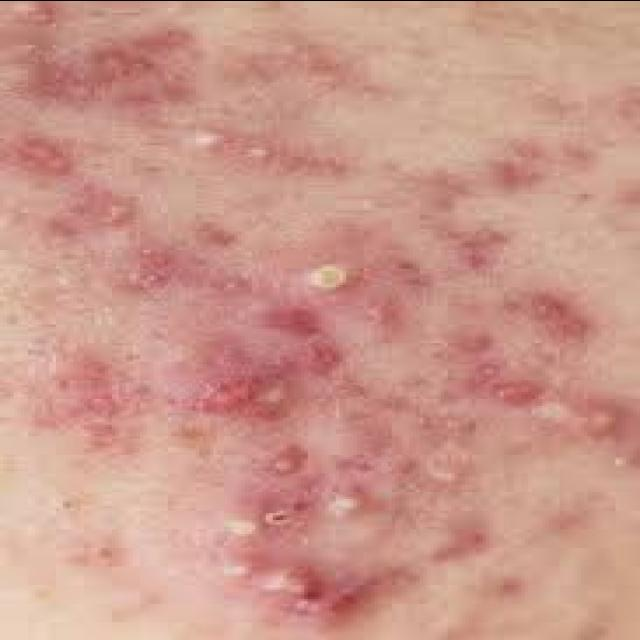Acne: (252, 219, 422, 337), (17, 19, 203, 115), (210, 556, 400, 632), (30, 348, 147, 466), (156, 345, 292, 424), (35, 182, 145, 244), (113, 252, 255, 300), (218, 484, 314, 546), (438, 358, 548, 411), (512, 288, 608, 346), (176, 122, 287, 172), (548, 391, 640, 448), (432, 221, 512, 274), (0, 134, 78, 182), (258, 340, 344, 378), (318, 479, 378, 524), (254, 439, 312, 483)
